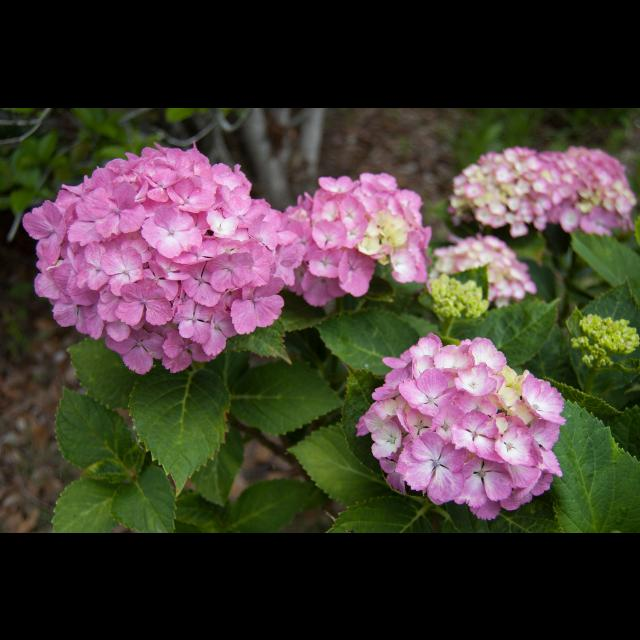Flower: (53, 144, 290, 390), (349, 333, 576, 519), (276, 167, 439, 309), (448, 144, 566, 236), (540, 142, 640, 235), (432, 231, 542, 311)
